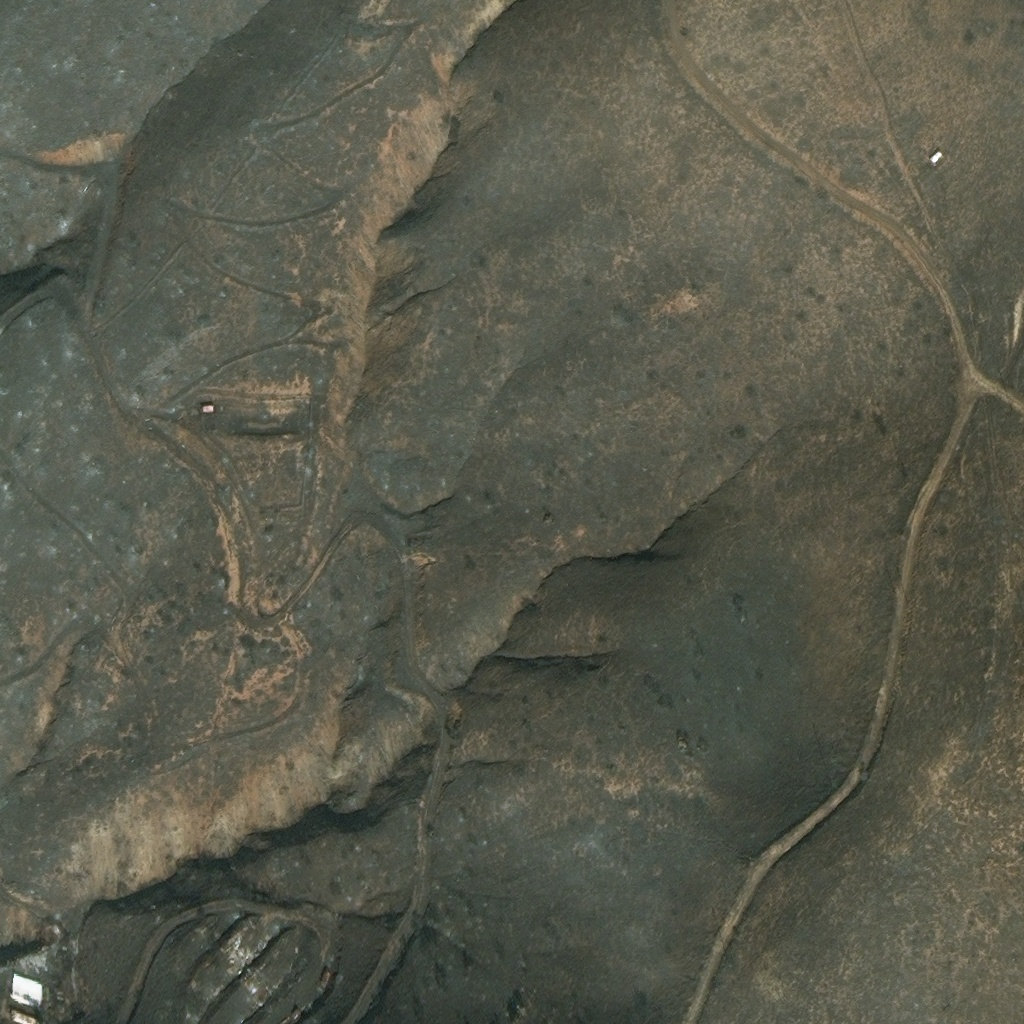0 no-damage: (9, 971, 43, 1004), (7, 1008, 39, 1023), (929, 150, 944, 167), (200, 404, 215, 414)
